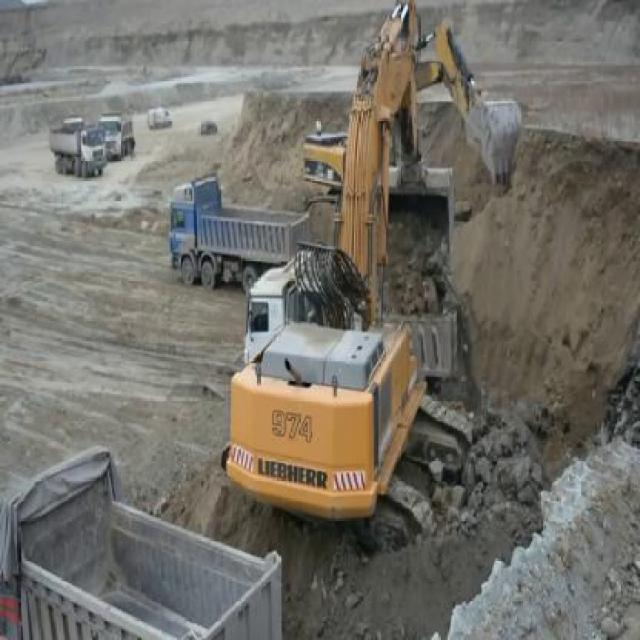Dump Truck: (0, 444, 283, 639), (169, 171, 313, 278), (48, 117, 103, 181), (102, 112, 136, 160)
Excavator: (220, 0, 502, 554), (304, 20, 522, 194)
